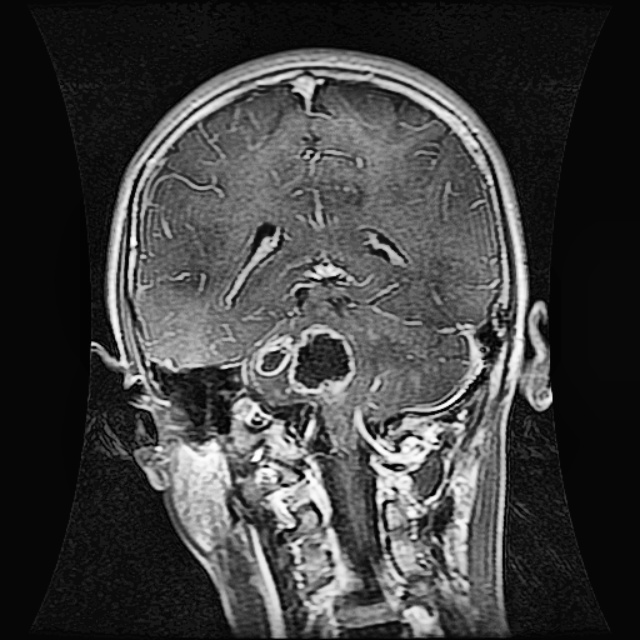Meningioma: (248, 319, 355, 397)
